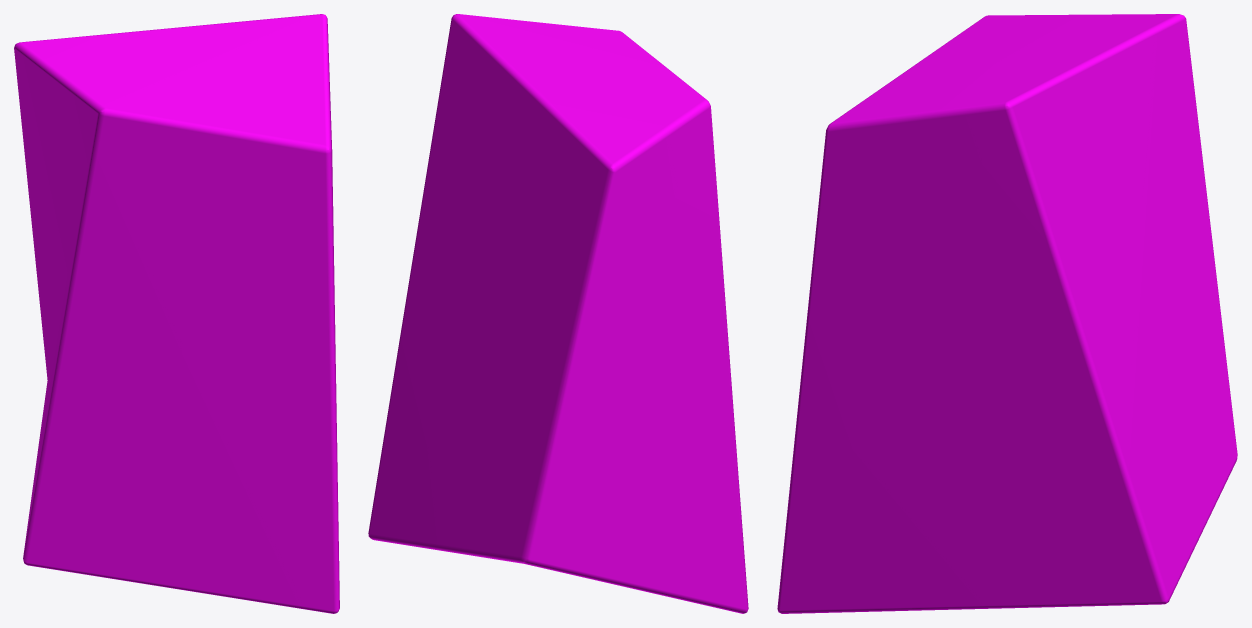
File: crystalB.fbx
3 renders of one model, left to right at view 1: azimuth 30°, elevation 25°; view 2: azimuth 150°, elevation 25°; view 3: azimuth 270°, elevation 25°, orthographic. The views are drawn at different scales.
Visible parts, largest first — view 1: crystalB_GEO; view 2: crystalB_GEO; view 3: crystalB_GEO.
Boxes of the visible parts, left/top/right/bottom form: crystalB_GEO: left=14, top=14, right=339, bottom=613; crystalB_GEO: left=368, top=14, right=748, bottom=613; crystalB_GEO: left=777, top=14, right=1237, bottom=613.
Size of the model in its own units: 10.72 by 17.2 by 12.81.
